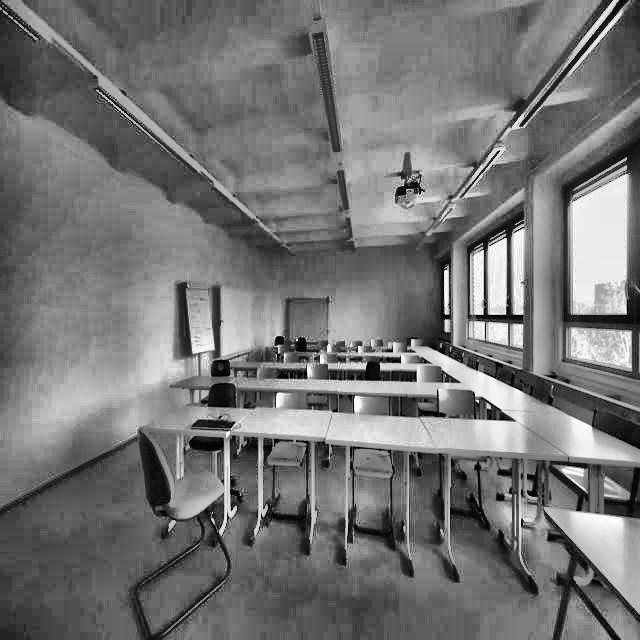ff: (110, 63, 279, 185)
